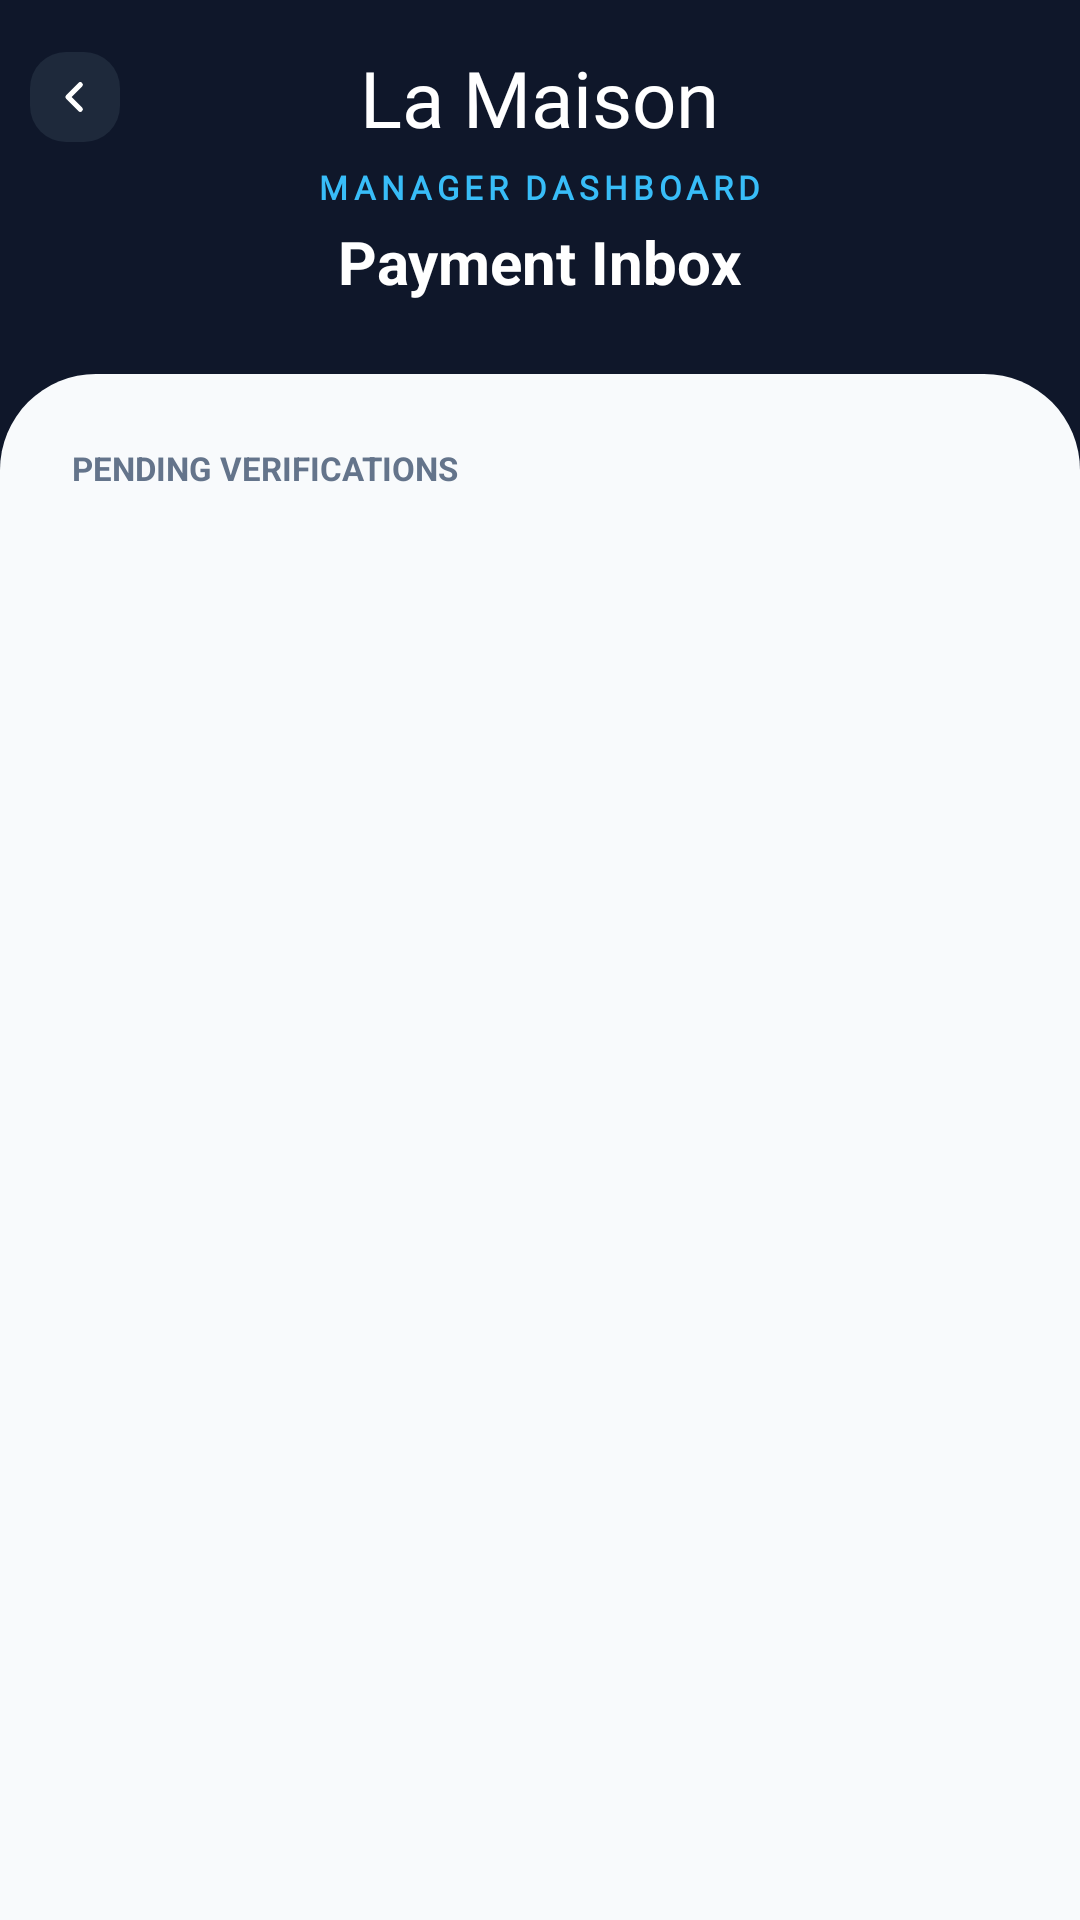

Point at icon controls on the screen. Image size 1080w x 1920h, points as [x,y].
chevron left: [75,97]
